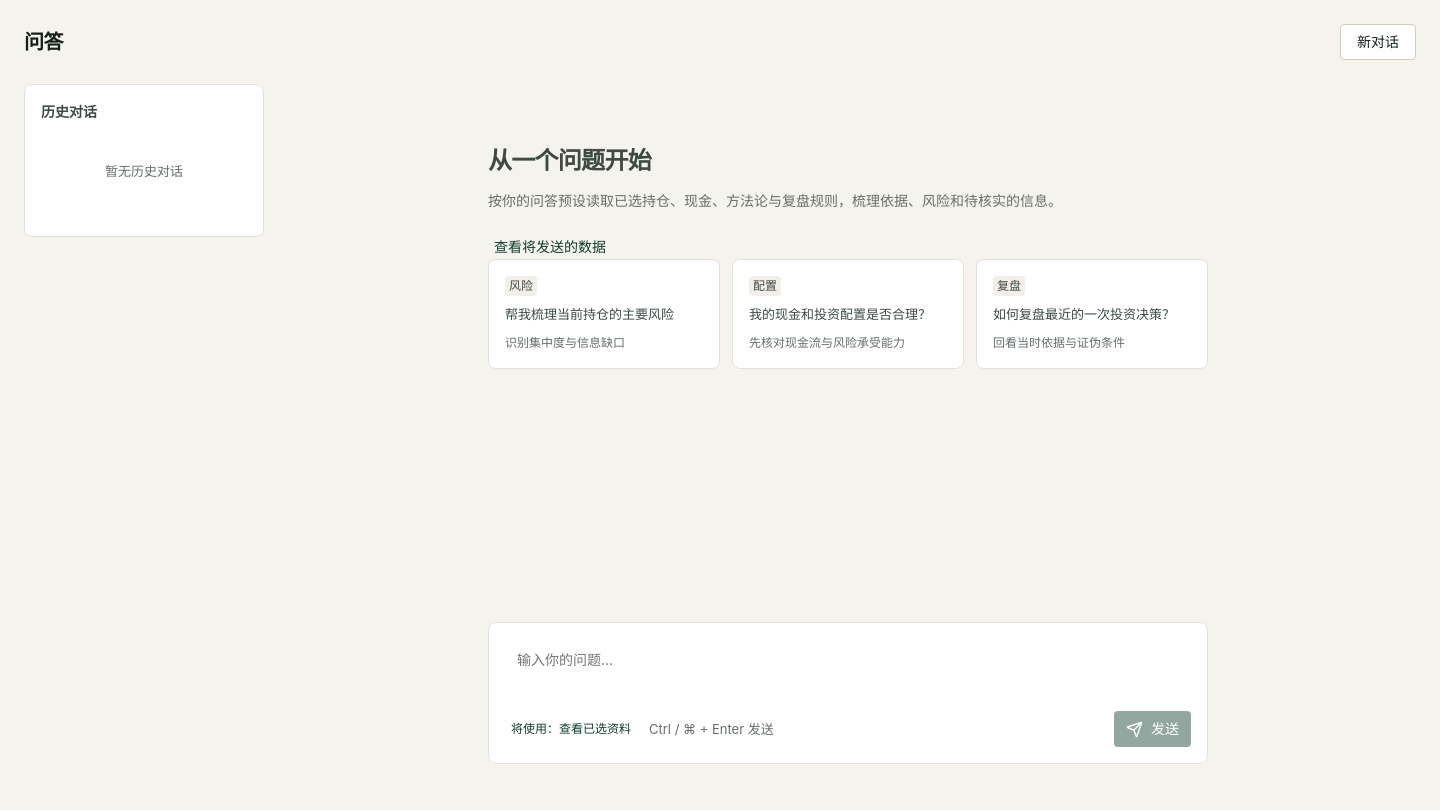
stops the stream, retains the draft and ignores late updates or completion
The image size is (1440, 810).
Type "待中止的问题" into the text box named "输入问题" at (848, 675), box [505,639,1191,711]
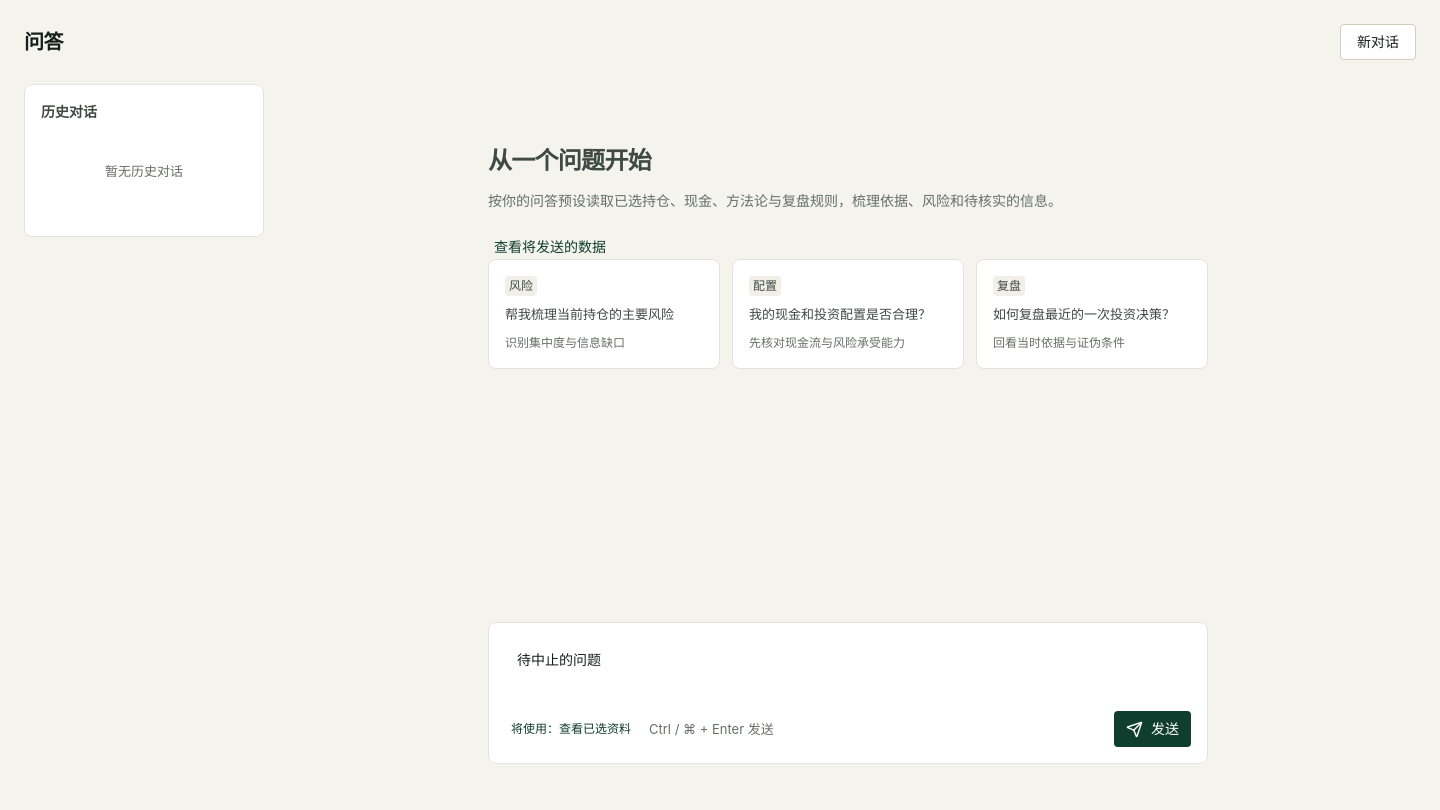
Click the button "发送" at (1152, 729), box [1114,711,1191,747]
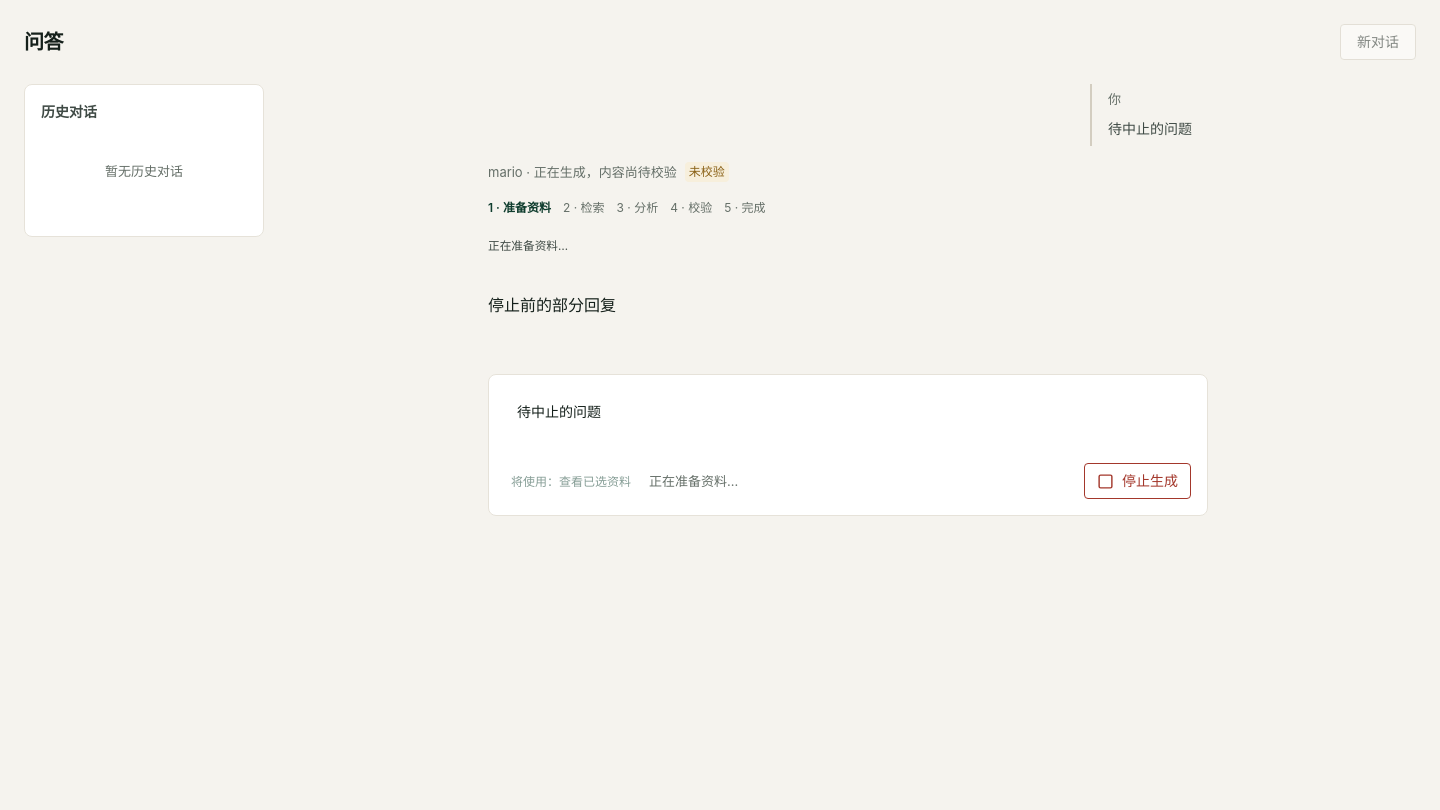
Expected: the text "停止前的部分回复" is shown, [488,295,616,315]
Click the button "停止生成" at (1138, 481), box [1084,463,1191,499]
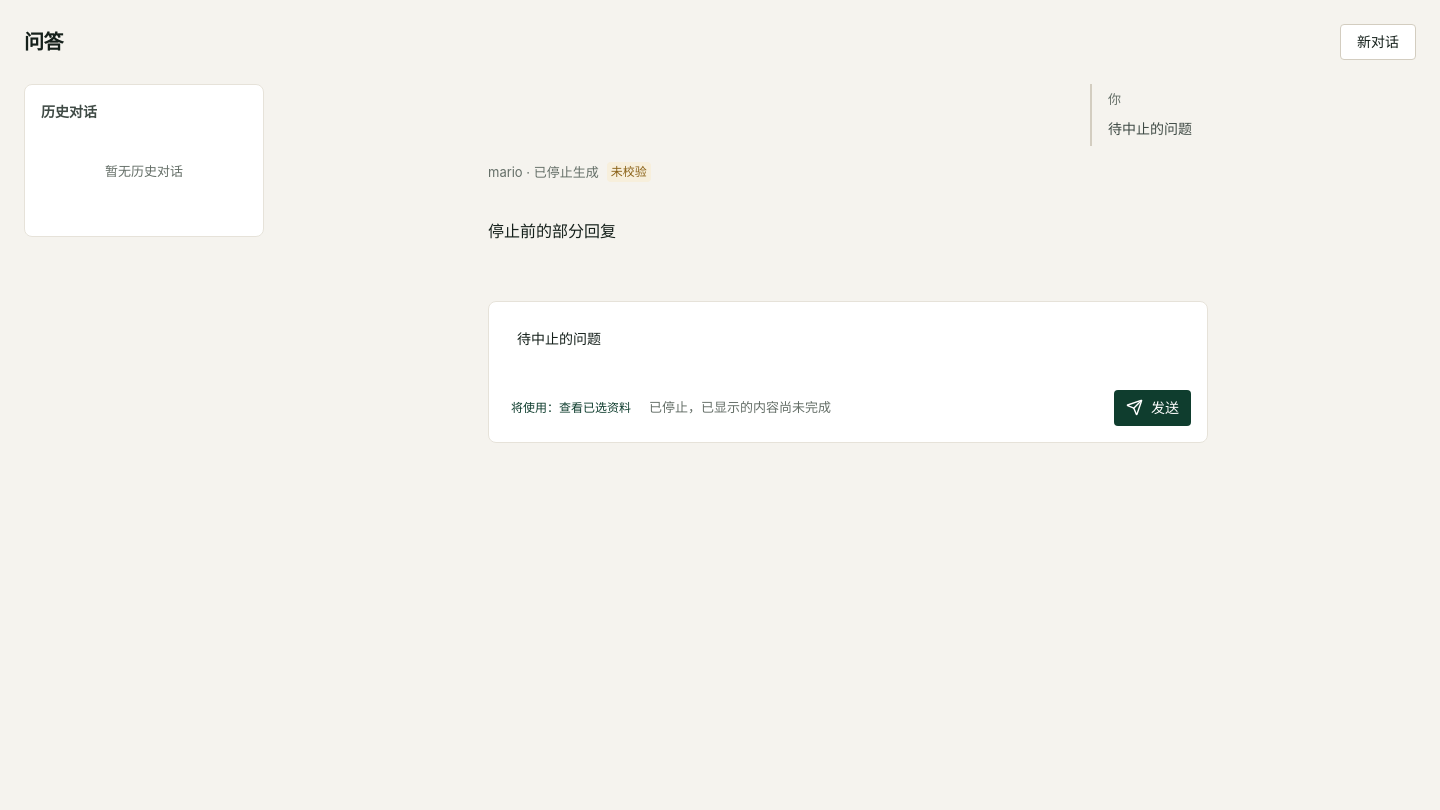
Expected: the text "mario · 已停止生成" is shown, [488,162,651,182]
Expected: the message "1 · 准备资料 2 · 检索 3 · 分析 4 · 校验 5 · 完成 正在准备资料…" is gone
Expected: the text box is enabled, [505,318,1191,390]
